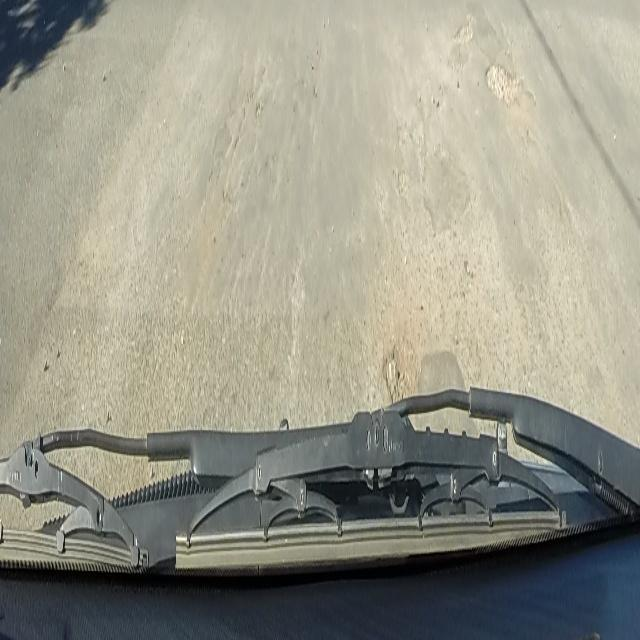pothole: (379, 344, 414, 405), (484, 58, 523, 106)
